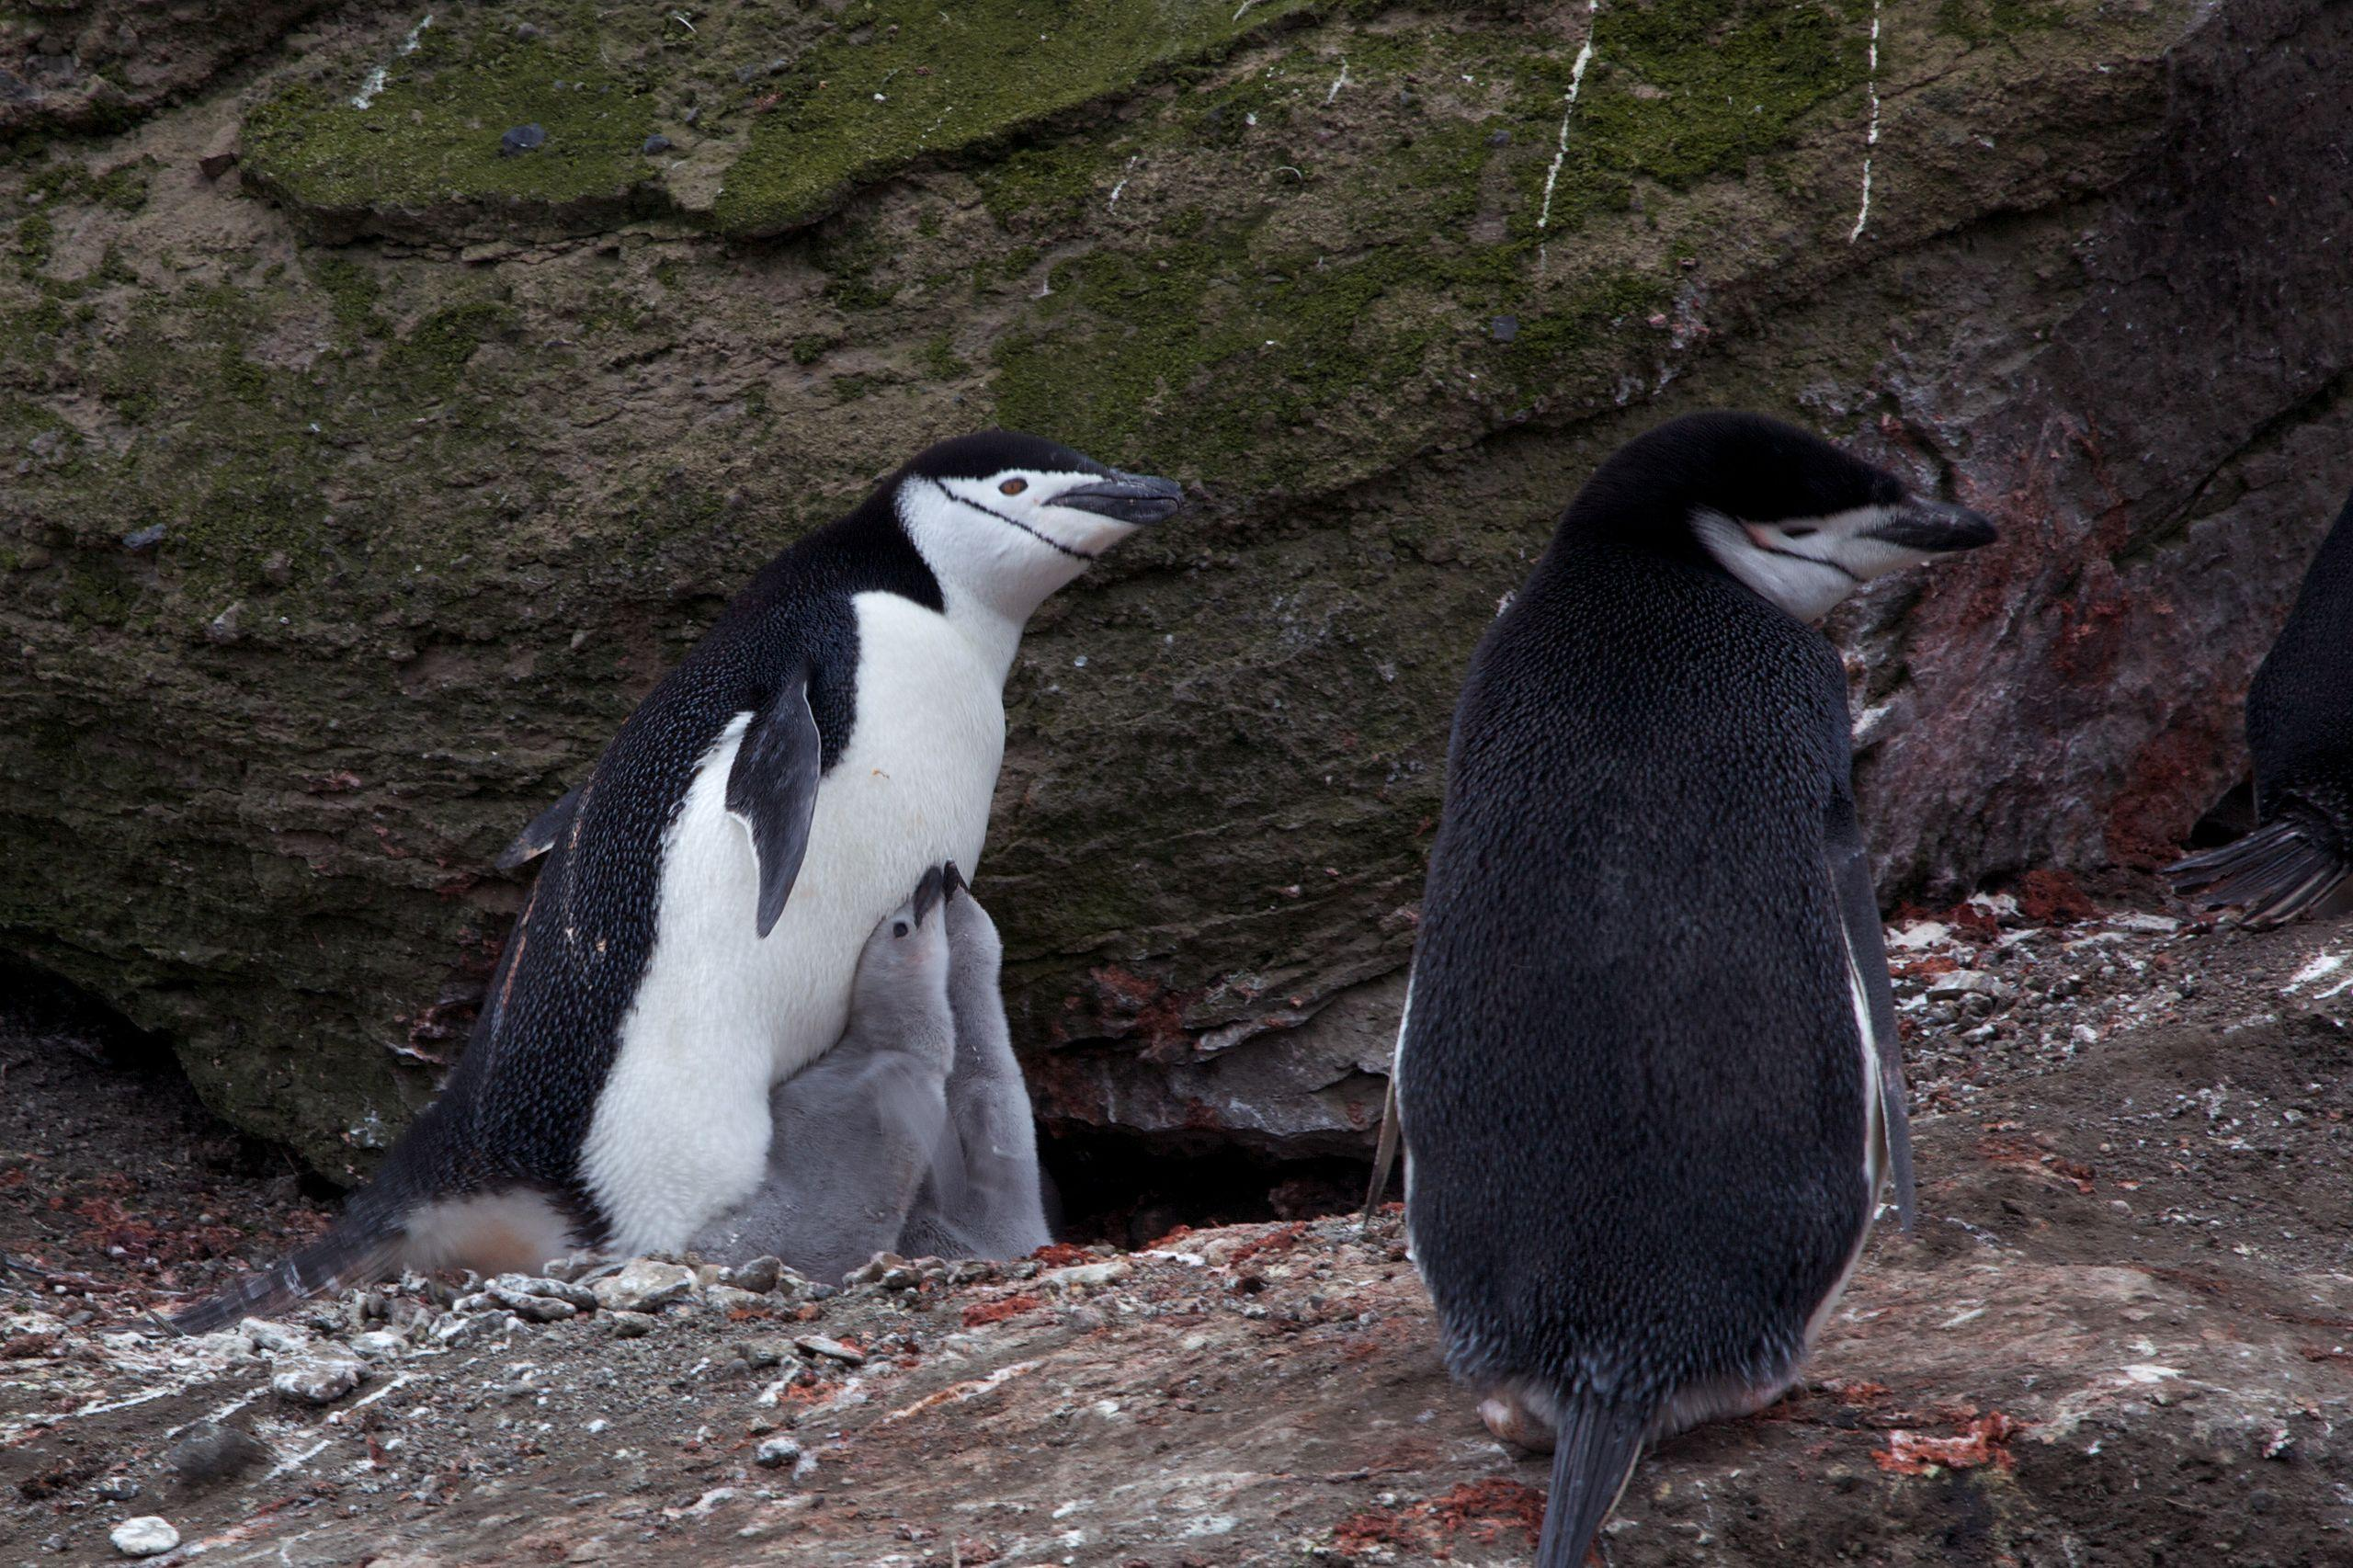chinstrap: (261, 378, 1188, 1326), (1356, 359, 1972, 1543)
